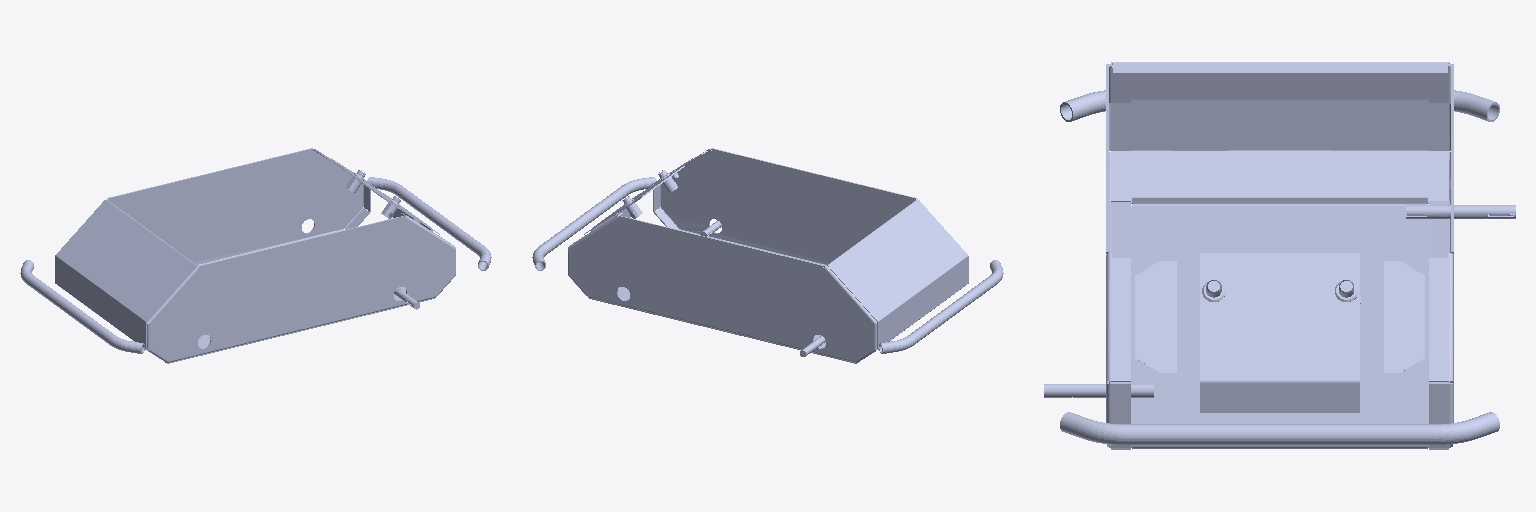
The robot description file, URDF, robot "mvpcrane":
<robot
  name="mvpcrane">
    <gazebo>
    <plugin name="differential_drive_controller" filename="libgazebo_ros_diff_drive.so">
      <legacyMode>false</legacyMode>
      <alwaysOn>true</alwaysOn>
      <updateRate>10</updateRate>
      <leftJoint>lwheel_joint</leftJoint>
      <rightJoint>rwheel_joint</rightJoint>
      <wheelSeparation>0.4</wheelSeparation>
      <wheelDiameter>0.2</wheelDiameter>
      <torque>10</torque>
      <commandTopic>/cmd_vel</commandTopic>
      <odometryTopic>odom</odometryTopic>
      <odometryFrame>odom</odometryFrame>
      <robotBaseFrame>base_link</robotBaseFrame>
    </plugin>
  </gazebo>
  
  <link
    name="base_link">
    <inertial>
      <origin
        xyz="0.0507117835790473 1.47451495458029E-17 0.0268762105129842"
        rpy="0 0 0" />
      <mass
        value="1.90627005747125" />
      <inertia
        ixx="0.0153580852373972"
        ixy="-3.86425952329233E-18"
        ixz="-0.00275171992820305"
        iyy="0.0151689877403363"
        iyz="-1.96014604987705E-18"
        izz="0.0241891871044715" />
    </inertial>
    <visual>
      <origin
        xyz="0 0 0"
        rpy="0 0 0" />
      <geometry>
        <mesh
          filename="package://mvpcrane/meshes/base_link.STL" />
      </geometry>
      <material
        name="">
        <color
          rgba="0.792156862745098 0.819607843137255 0.933333333333333 1" />
      </material>
    </visual>
    <collision>
      <origin
        xyz="0 0 0"
        rpy="0 0 0" />
      <geometry>
        <mesh
          filename="package://mvpcrane/meshes/base_link.STL" />
      </geometry>
    </collision>
  </link>
  <link
    name="rwheel_link">
    <inertial>
      <origin
        xyz="5.55111512312578E-17 0 0"
        rpy="0 0 0" />
      <mass
        value="0.0829576810088555" />
      <inertia
        ixx="2.62267251939455E-05"
        ixy="-4.10376130191917E-38"
        ixz="0"
        iyy="4.38120252828018E-05"
        iyz="-6.51271857308242E-38"
        izz="2.62267251939454E-05" />
    </inertial>
    <visual>
      <origin
        xyz="0 0 0"
        rpy="0 0 0" />
      <geometry>
        <mesh
          filename="package://mvpcrane/meshes/rwheel_link.STL" />
      </geometry>
      <material
        name="">
        <color
          rgba="0.792156862745098 0.819607843137255 0.933333333333333 1" />
      </material>
    </visual>
    <collision>
      <origin
        xyz="0 0 0"
        rpy="0 0 0" />
      <geometry>
        <mesh
          filename="package://mvpcrane/meshes/rwheel_link.STL" />
      </geometry>
    </collision>
  </link>
  <joint
    name="rwheel_joint"
    type="continuous">
    <origin
      xyz="0.08 -0.1135 -0.0545"
      rpy="0 0 3.70074341541719E-16" />
    <parent
      link="base_link" />
    <child
      link="rwheel_link" />
    <axis
      xyz="0 1 0" />
  </joint>
  <link
    name="lwheel_link">
    <inertial>
      <origin
        xyz="0 0 0"
        rpy="0 0 0" />
      <mass
        value="0.0829576810088555" />
      <inertia
        ixx="2.62267251939455E-05"
        ixy="-7.07229507600784E-22"
        ixz="2.11758236813575E-22"
        iyy="4.38120252828018E-05"
        iyz="-3.48215852980651E-24"
        izz="2.62267251939455E-05" />
    </inertial>
    <visual>
      <origin
        xyz="0 0 0"
        rpy="0 0 0" />
      <geometry>
        <mesh
          filename="package://mvpcrane/meshes/lwheel_link.STL" />
      </geometry>
      <material
        name="">
        <color
          rgba="0.792156862745098 0.819607843137255 0.933333333333333 1" />
      </material>
    </visual>
    <collision>
      <origin
        xyz="0 0 0"
        rpy="0 0 0" />
      <geometry>
        <mesh
          filename="package://mvpcrane/meshes/lwheel_link.STL" />
      </geometry>
    </collision>
  </link>
  <joint
    name="lwheel_joint"
    type="continuous">
    <origin
      xyz="0.0799999999999998 0.1135 -0.0545"
      rpy="0 0.0673424314711914 3.70074341541719E-16" />
    <parent
      link="base_link" />
    <child
      link="lwheel_link" />
    <axis
      xyz="0 1 0" />
  </joint>
  <link
    name="bwheel_mount_link">
    <inertial>
      <origin
        xyz="0 -3.46944695195361E-18 -0.0226324626865672"
        rpy="0 0 0" />
      <mass
        value="0.0268" />
      <inertia
        ixx="1.31085964241293E-05"
        ixy="8.13934053179257E-22"
        ixz="-8.55422040183102E-22"
        iyy="1.14710964241293E-05"
        iyz="-1.42903905292742E-22"
        izz="8.78416666666666E-06" />
    </inertial>
    <visual>
      <origin
        xyz="0 0 0"
        rpy="0 0 0" />
      <geometry>
        <mesh
          filename="package://mvpcrane/meshes/bwheel_mount_link.STL" />
      </geometry>
      <material
        name="">
        <color
          rgba="0.792156862745098 0.819607843137255 0.933333333333333 1" />
      </material>
    </visual>
    <collision>
      <origin
        xyz="0 0 0"
        rpy="0 0 0" />
      <geometry>
        <mesh
          filename="package://mvpcrane/meshes/bwheel_mount_link.STL" />
      </geometry>
    </collision>
  </link>
  <joint
    name="bwheel_mount_joint"
    type="continuous">
    <origin
      xyz="-0.1 0 -0.00499999999999979"
      rpy="-1.38777878078144E-15 9.86076131526265E-32 3.97829917157348E-16" />
    <parent
      link="base_link" />
    <child
      link="bwheel_mount_link" />
    <axis
      xyz="0 0 1" />
  </joint>
  <link
    name="bwheel_link">
    <inertial>
      <origin
        xyz="0 4.33680868994202E-18 0"
        rpy="0 0 0" />
      <mass
        value="0.0663661448070844" />
      <inertia
        ixx="1.97370149400235E-05"
        ixy="-1.47362444040855E-22"
        ixz="1.31655367292096E-36"
        iyy="3.50496202262414E-05"
        iyz="7.91235252580677E-37"
        izz="1.97370149400235E-05" />
    </inertial>
    <visual>
      <origin
        xyz="0 0 0"
        rpy="0 0 0" />
      <geometry>
        <mesh
          filename="package://mvpcrane/meshes/bwheel_link.STL" />
      </geometry>
      <material
        name="">
        <color
          rgba="0.792156862745098 0.819607843137255 0.933333333333333 1" />
      </material>
    </visual>
    <collision>
      <origin
        xyz="0 0 0"
        rpy="0 0 0" />
      <geometry>
        <mesh
          filename="package://mvpcrane/meshes/bwheel_link.STL" />
      </geometry>
    </collision>
  </link>
  <joint
    name="bwheel_joint"
    type="continuous">
    <origin
      xyz="0 0 -0.0495"
      rpy="1.38777878078144E-15 1.38777878078123E-17 1.47104550762833E-15" />
    <parent
      link="bwheel_mount_link" />
    <child
      link="bwheel_link" />
    <axis
      xyz="0 1 0" />
  </joint>
</robot>

--- What the picture shows (computed from the rendered views, not written in the file) ---
Views: 3 orthographic renders of the robot side by side, from view 1: azimuth 30°, elevation 25°; view 2: azimuth 150°, elevation 25°; view 3: azimuth 270°, elevation 25°.
Robot: mvpcrane — 5 links, 4 joints (4 continuous); root link base_link; default pose: all joints at 0.
Links seen in each view (by area): view 1: base_link; view 2: base_link; view 3: base_link.
Link boxes in pixels (x1=…): base_link: x1=20, y1=148, x2=491, y2=363; base_link: x1=532, y1=148, x2=1003, y2=363; base_link: x1=1044, y1=62, x2=1515, y2=449.
Bounding box of the posed robot: 0.001 × 0.0006 × 0.0002 m (x, y, z).
Meshes: 5 distinct files referenced, 1 mesh visuals loaded (1 binary STL); not drawn: 4 (reference not matched to a file when rendering).